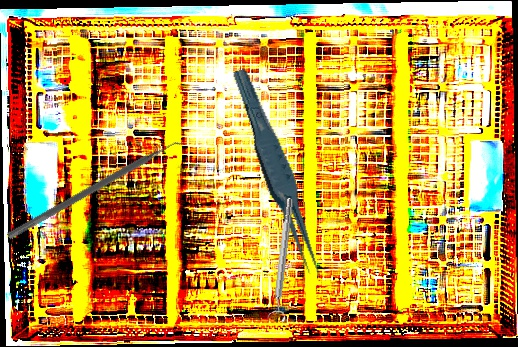Fixation Ring: (265, 197, 301, 323)
Spatula Surgical: (6, 133, 188, 247)
Tissue Forceps: (231, 63, 323, 285)
